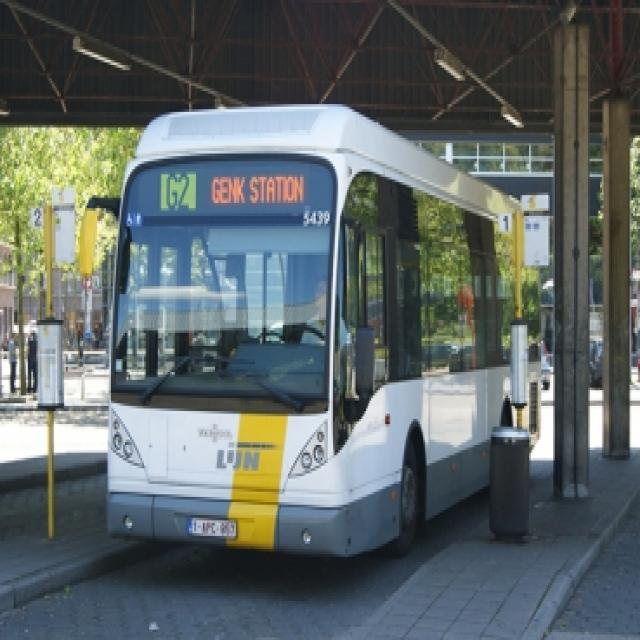bus-number: (160, 172, 197, 211)
